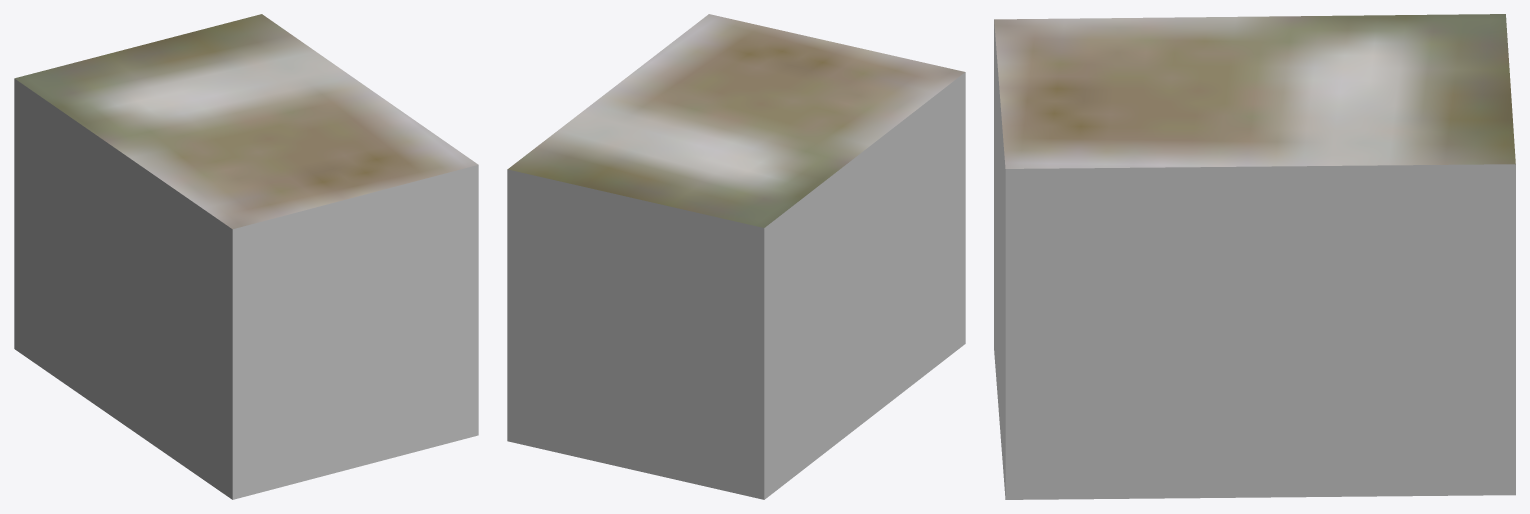
File: DEBW_0010007TvkH.gltf
3 renders of one model, left to right at view 1: azimuth 30°, elevation 25°; view 2: azimuth 150°, elevation 25°; view 3: azimuth 270°, elevation 25°, orthographic. The views are drawn at different scales.
Parts seen in each view (by area): view 1: Z_UP; view 2: Z_UP; view 3: Z_UP.
Part boxes in pixels (<box>): Z_UP: <box>14,14,478,499</box>; Z_UP: <box>507,14,965,499</box>; Z_UP: <box>994,14,1515,499</box>.
Size of the model in its own units: 2.58 by 2.57 by 3.67.
2 materials, 1 textured.
